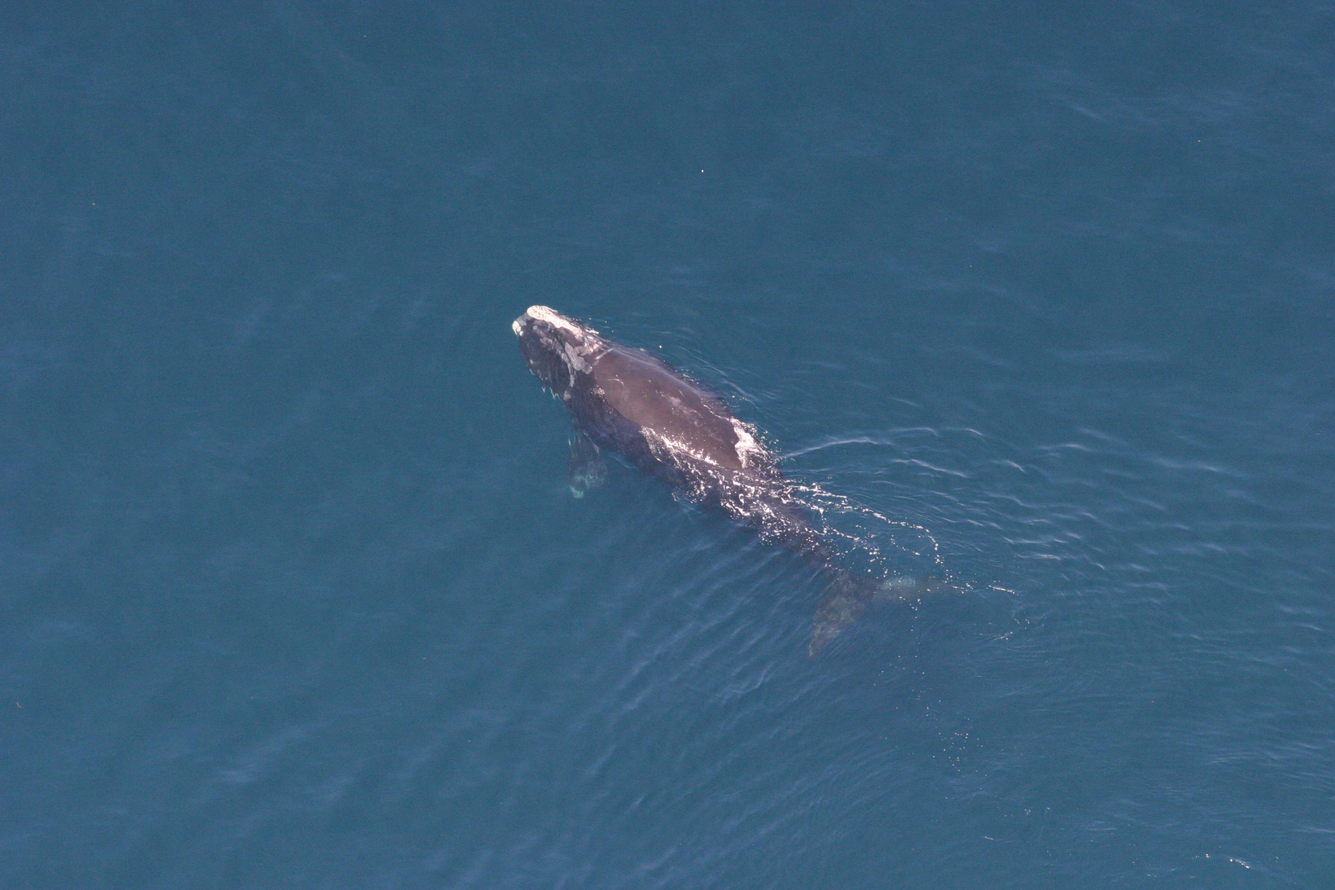whale: (508, 298, 976, 667)
